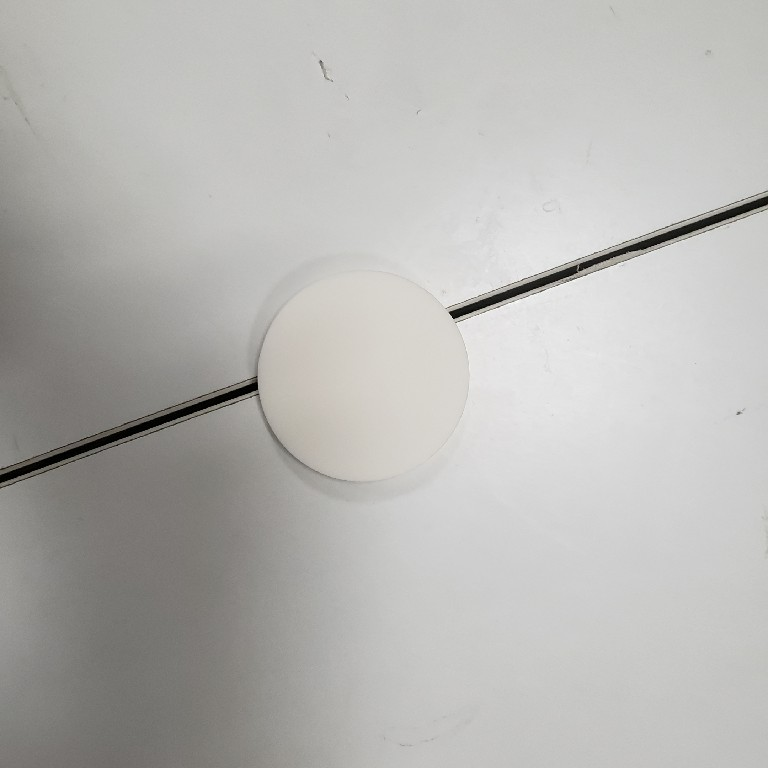ceramics: (236, 251, 487, 505)
